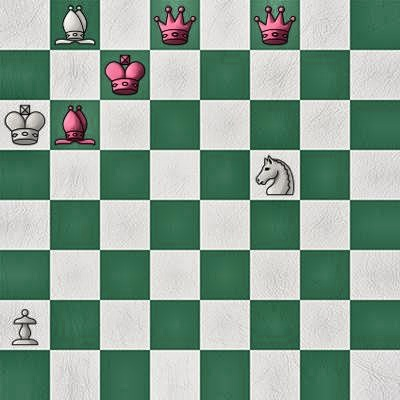black-bishop: (50, 100, 100, 150)
black-king: (100, 50, 150, 100)
black-queen: (150, 0, 200, 50), (250, 0, 300, 50)
white-bishop: (50, 0, 100, 50)
white-king: (0, 100, 50, 150)
white-knight: (250, 150, 300, 200)
white-pawn: (0, 300, 50, 350)
